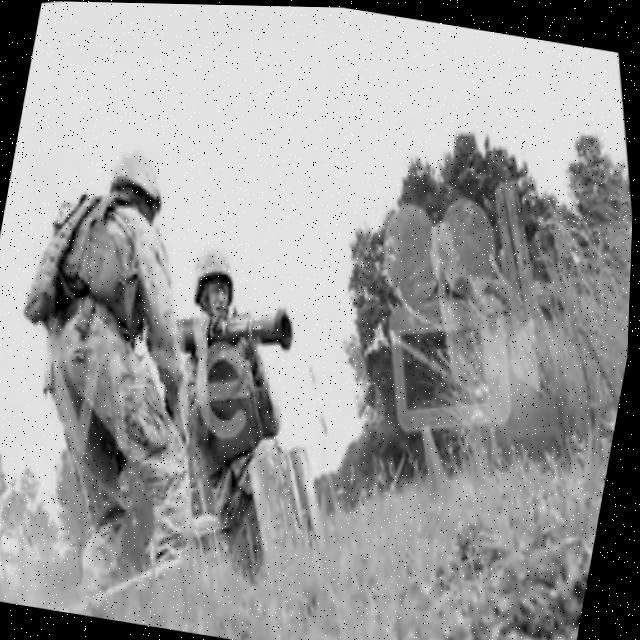rocket: (167, 276, 306, 376)
